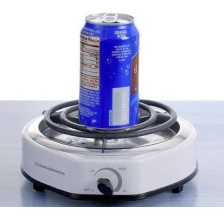can: (74, 8, 144, 134)
